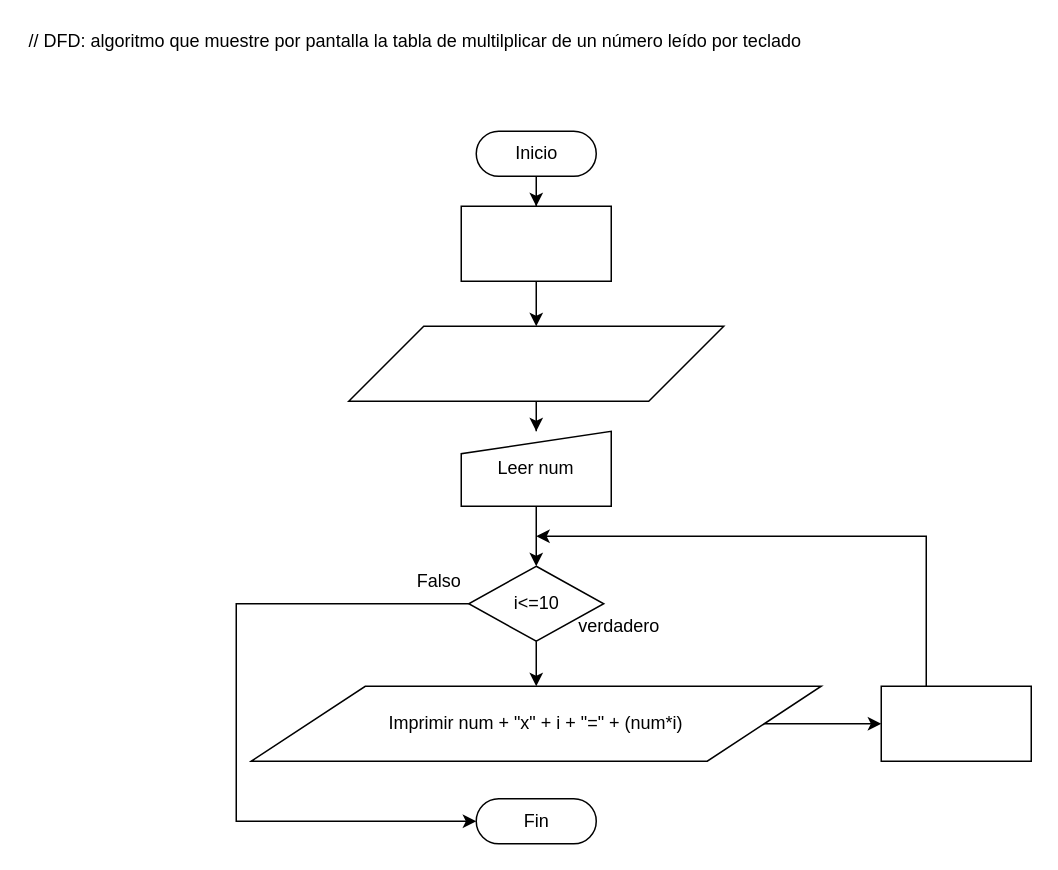
This 1058x870 diagram has some shape labels left out. Each missing label, with the centre of its shape:
i<-0: pixel 535 243
i<-i+1: pixel 955 723
Imprimir "Introduzca un número": pixel 535 363
